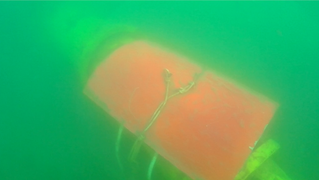4: (62, 11, 85, 33)
leak: (81, 39, 277, 180)
pipe: (47, 1, 144, 91), (233, 133, 292, 180), (140, 141, 193, 180)
